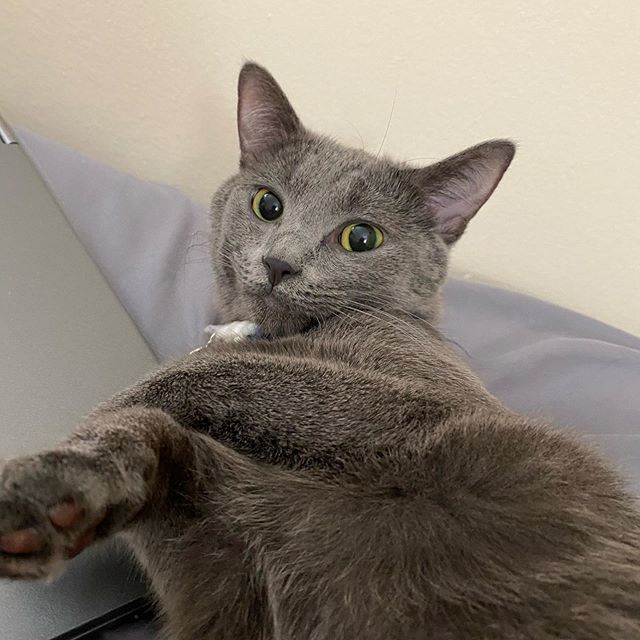cat: (190, 54, 520, 384)
